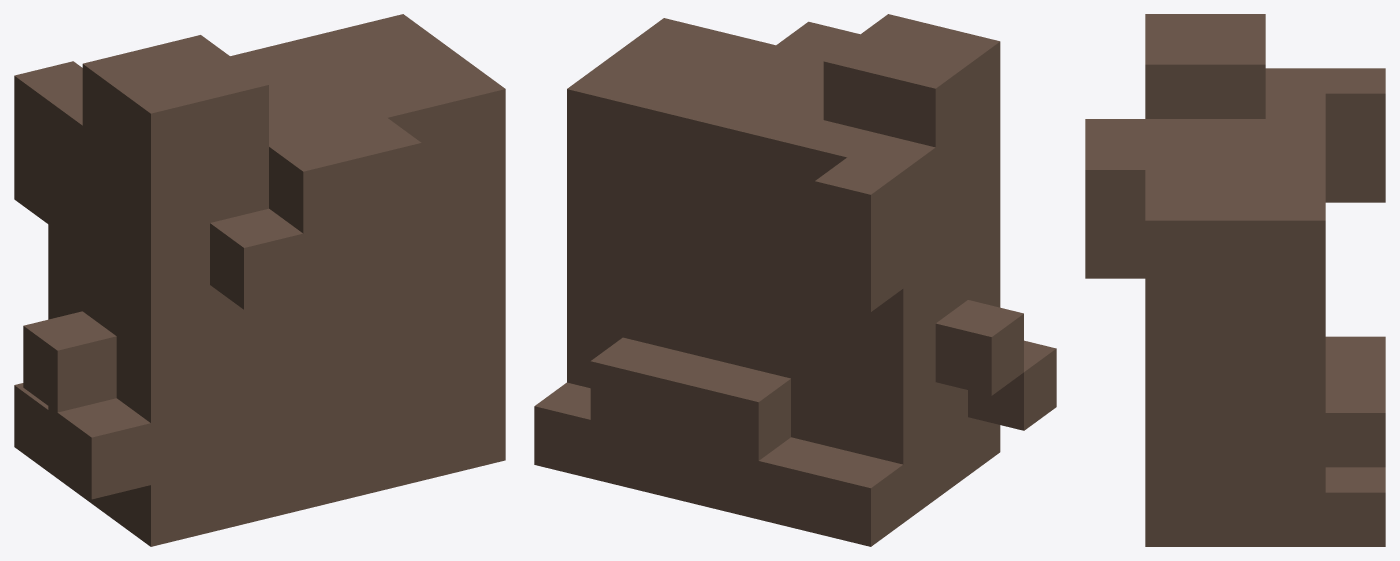
Rendered from Brutalist_NiheiTower_B.fbx.
3 renders of one model, left to right at view 1: azimuth 30°, elevation 25°; view 2: azimuth 150°, elevation 25°; view 3: azimuth 270°, elevation 25°, orthographic. The views are drawn at different scales.
Parts seen in each view (by area): view 1: Brutalist_NiheiTower_B; view 2: Brutalist_NiheiTower_B; view 3: Brutalist_NiheiTower_B.
Boxes of the visible parts, x1,y1,x2,y2 form: Brutalist_NiheiTower_B: (14, 14, 505, 546); Brutalist_NiheiTower_B: (534, 14, 1056, 546); Brutalist_NiheiTower_B: (1085, 14, 1385, 546).
Bounding box in the file's own units: 1.15 × 1.15 × 0.8181.
